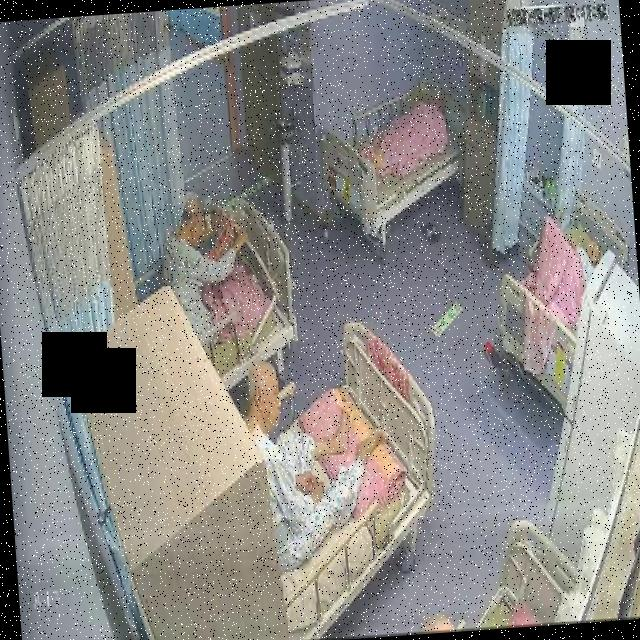bed: (254, 317, 450, 640), (486, 185, 640, 417), (162, 198, 300, 396), (316, 74, 466, 238)
lie: (516, 215, 610, 336)
patient: (243, 354, 392, 596), (160, 194, 286, 340), (569, 235, 606, 288)
sit: (246, 355, 394, 594), (160, 194, 284, 342)
